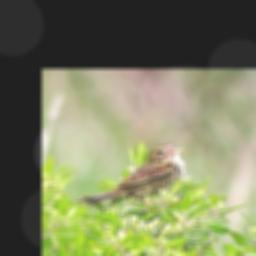Sparrow: (74, 141, 187, 212)
